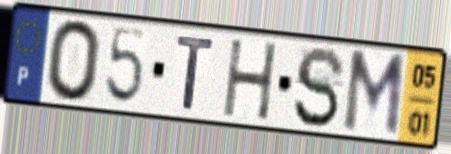5: (101, 24, 149, 107)
H: (221, 38, 280, 124)
M: (339, 48, 408, 142)
O: (44, 17, 104, 105)
S: (290, 44, 348, 131)
T: (174, 33, 218, 113)
